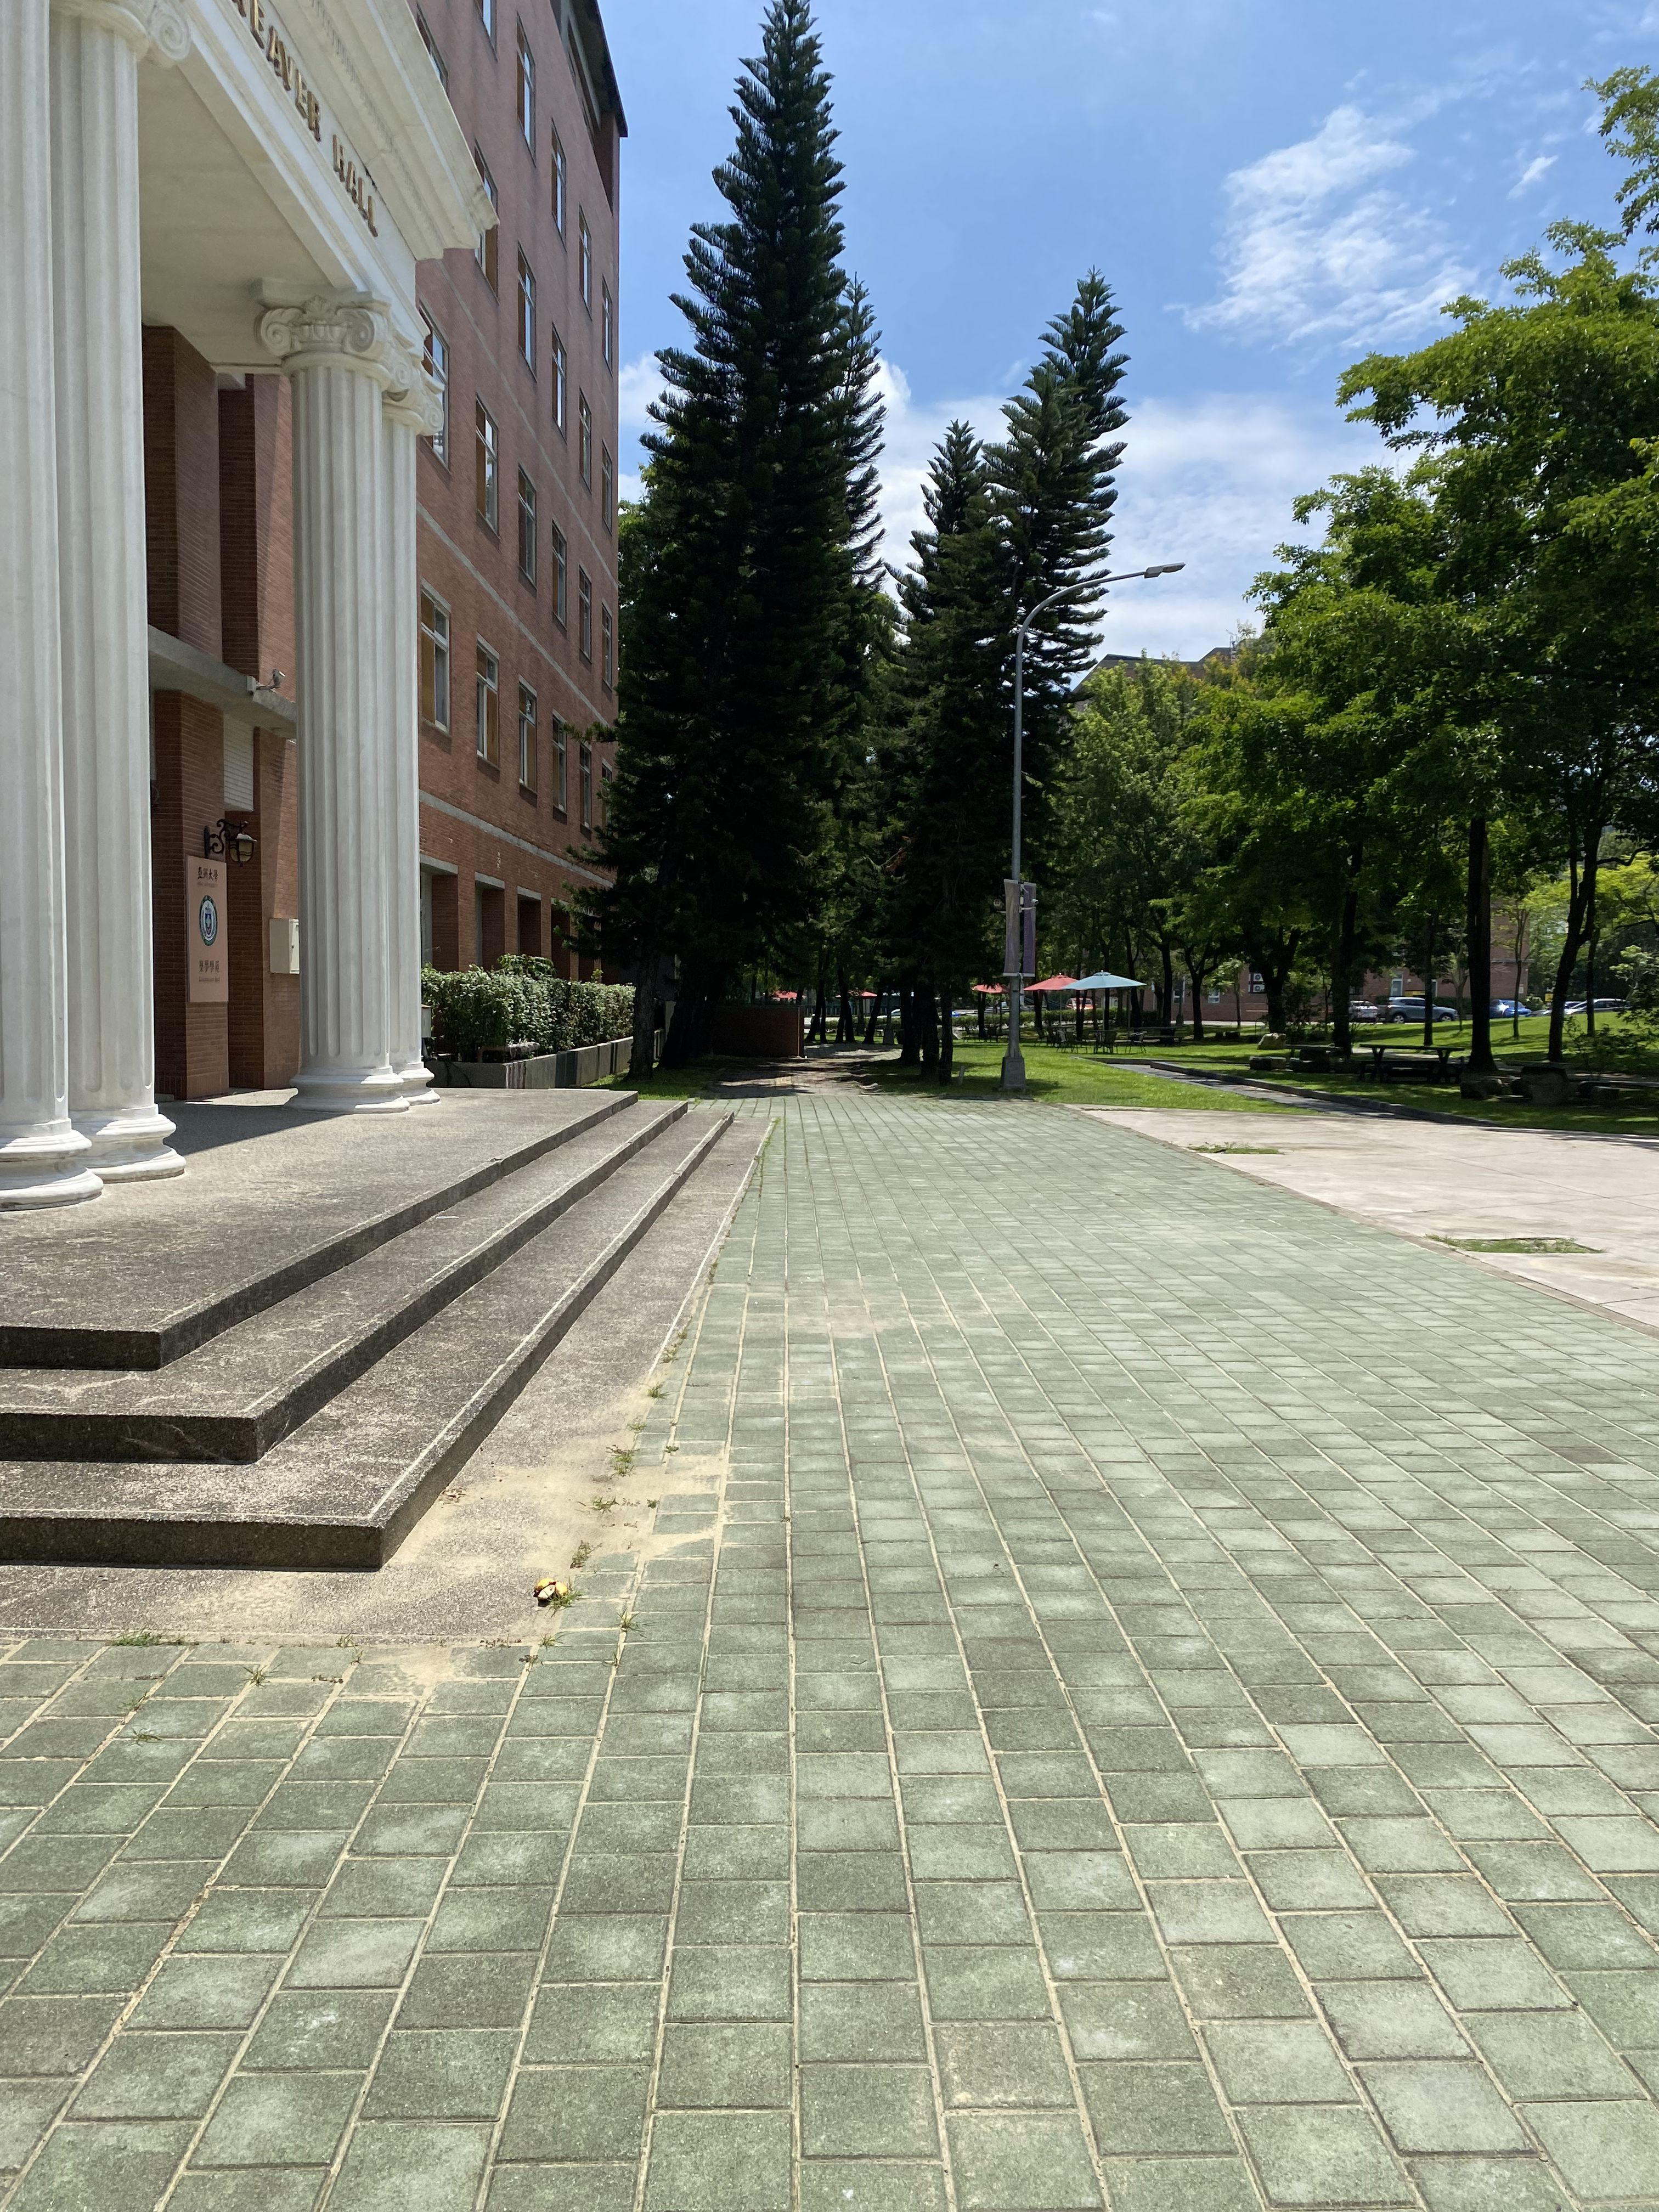0: (0, 1557, 741, 2212)
sidewalk: (606, 1028, 1659, 2212)
